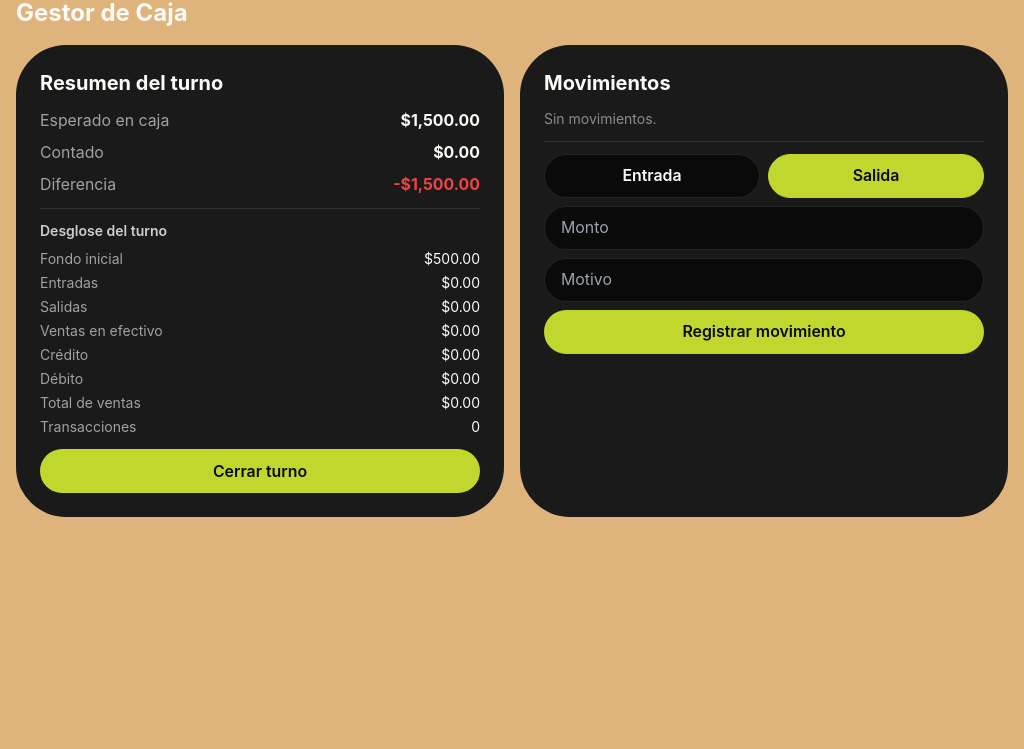
Test: F10.6.1 — criterio 2: teclear construye el monto › concatena los dígitos en el campo enfocado
Expected: the heading "Resumen del turno" is shown, x1=40 y1=71 x2=223 y2=95
Step 1. Focus the field with test id "campo-montoMov" → (764, 228), box x1=544 y1=206 x2=984 y2=250
(page scrolled)
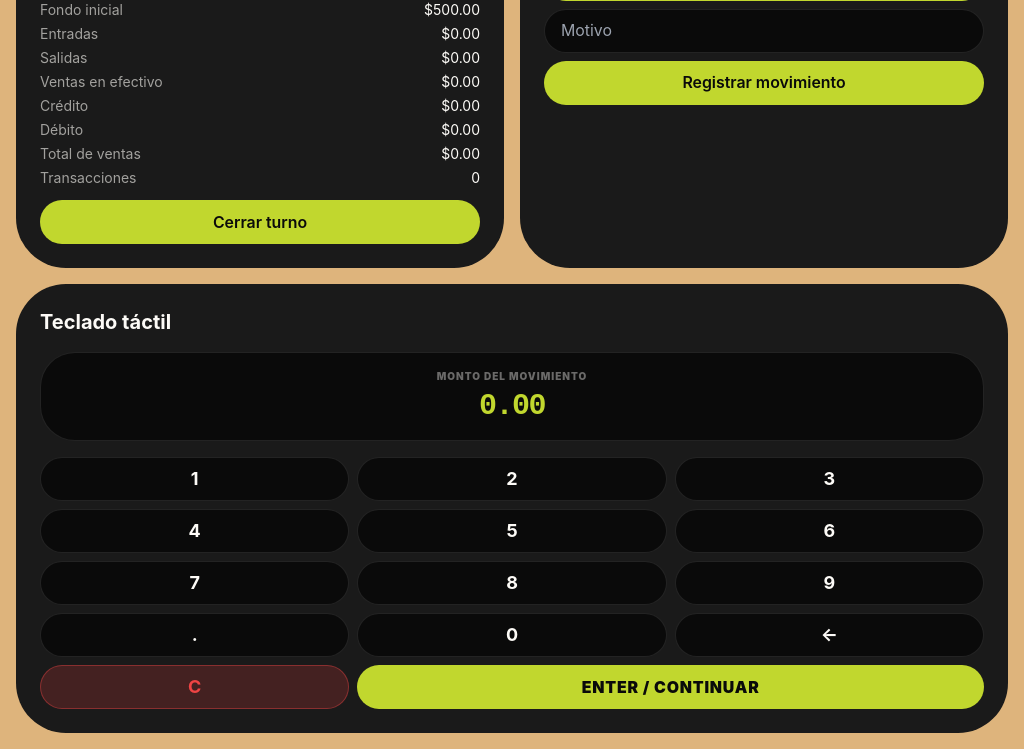
Step 2. Click the button "1" → click(195, 479), box x1=40 y1=457 x2=349 y2=501
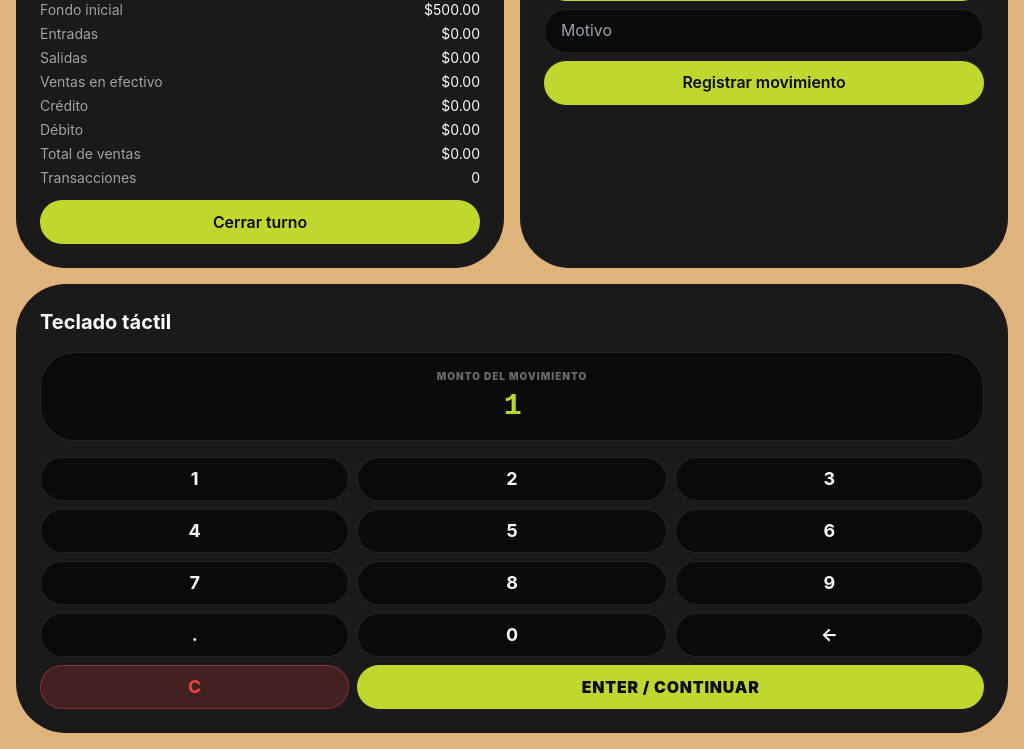
Step 3. Click the button "2" → click(512, 479), box x1=357 y1=457 x2=667 y2=501
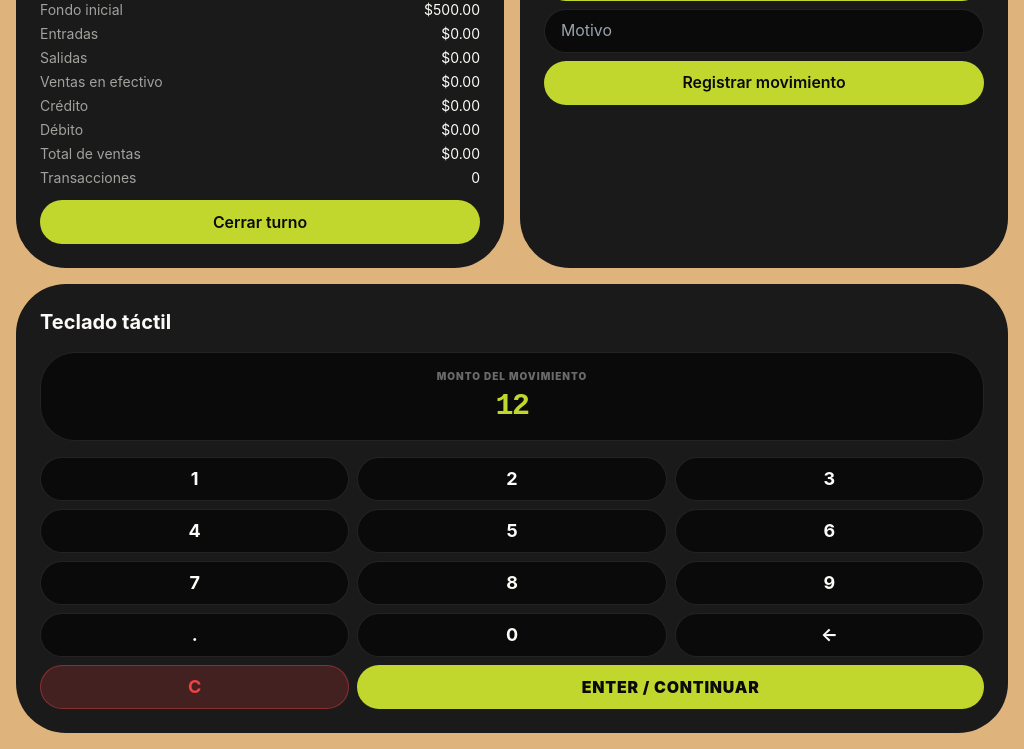
Step 4. Click the button "3" → click(829, 479), box x1=675 y1=457 x2=984 y2=501
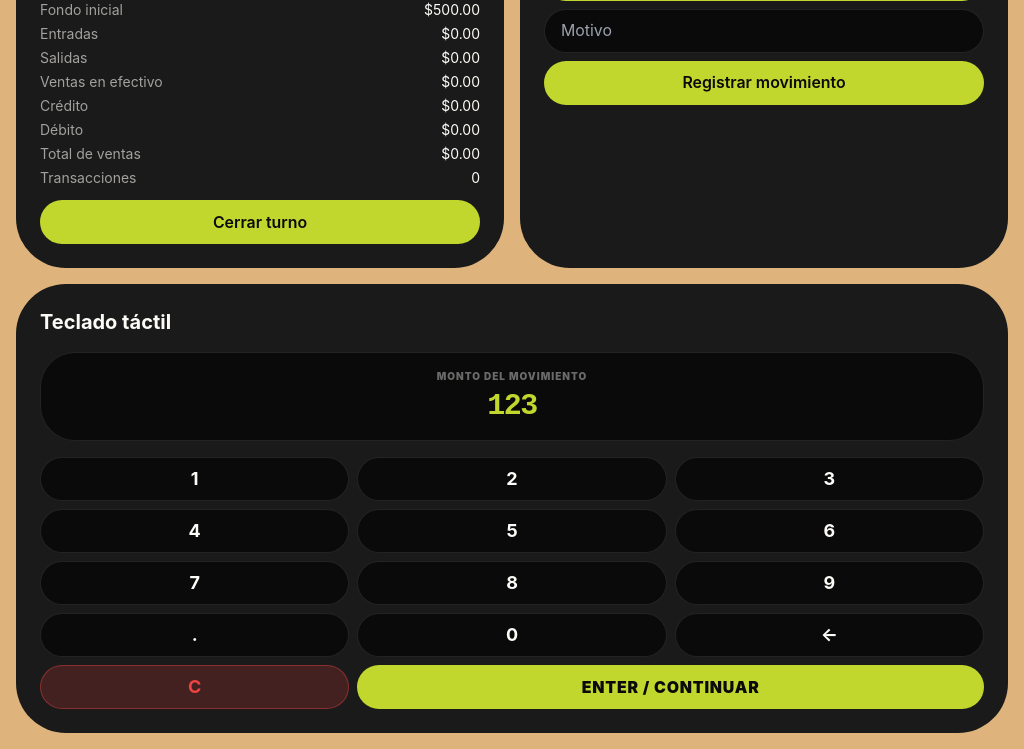
Now the text with test id "teclado-display" reads "123", box x1=487 y1=389 x2=537 y2=423
